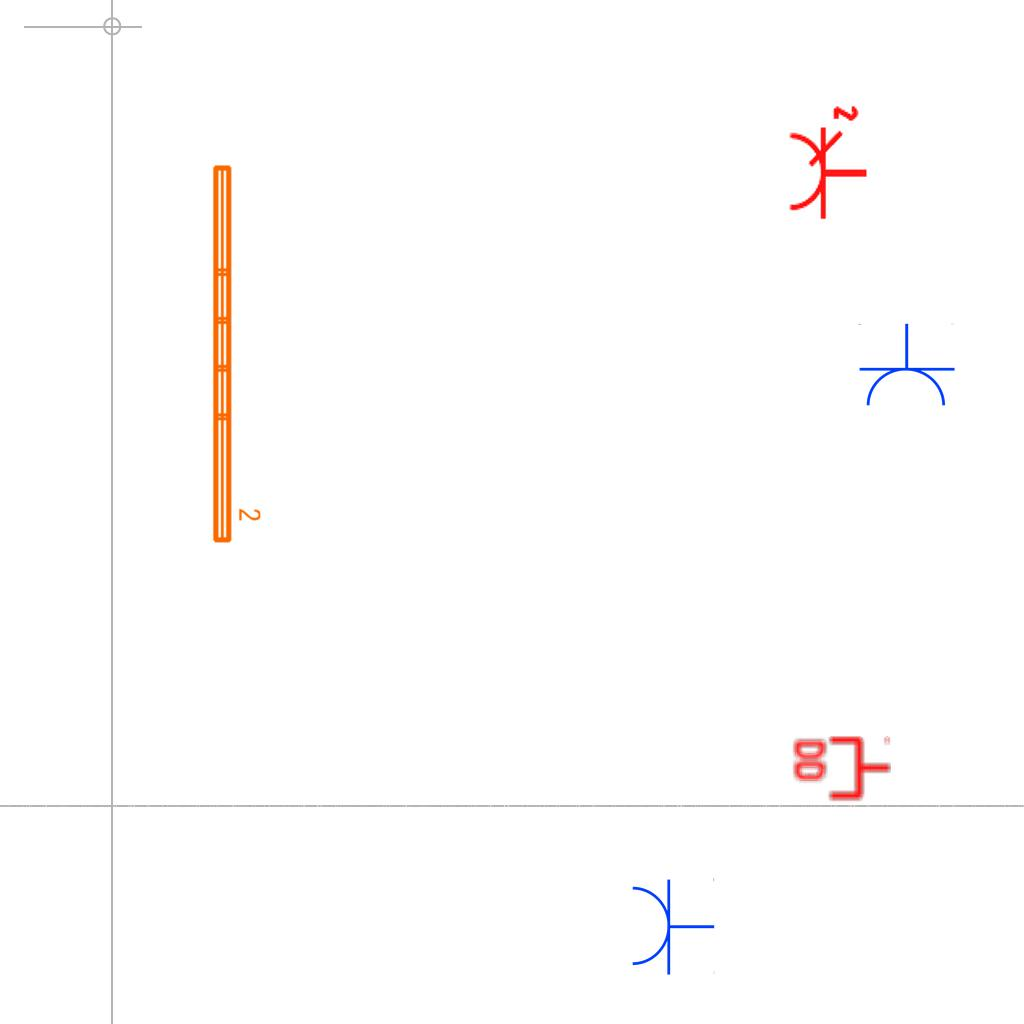Ambulanz_Pendelleuchte_LED: (207, 160, 263, 547)
Datenanschluss_zweifach: (790, 735, 893, 804)
Schukosteckdose_einfach: (628, 876, 715, 976), (856, 323, 956, 410)
Schukosteckdose_mehrfach: (785, 103, 873, 224)
